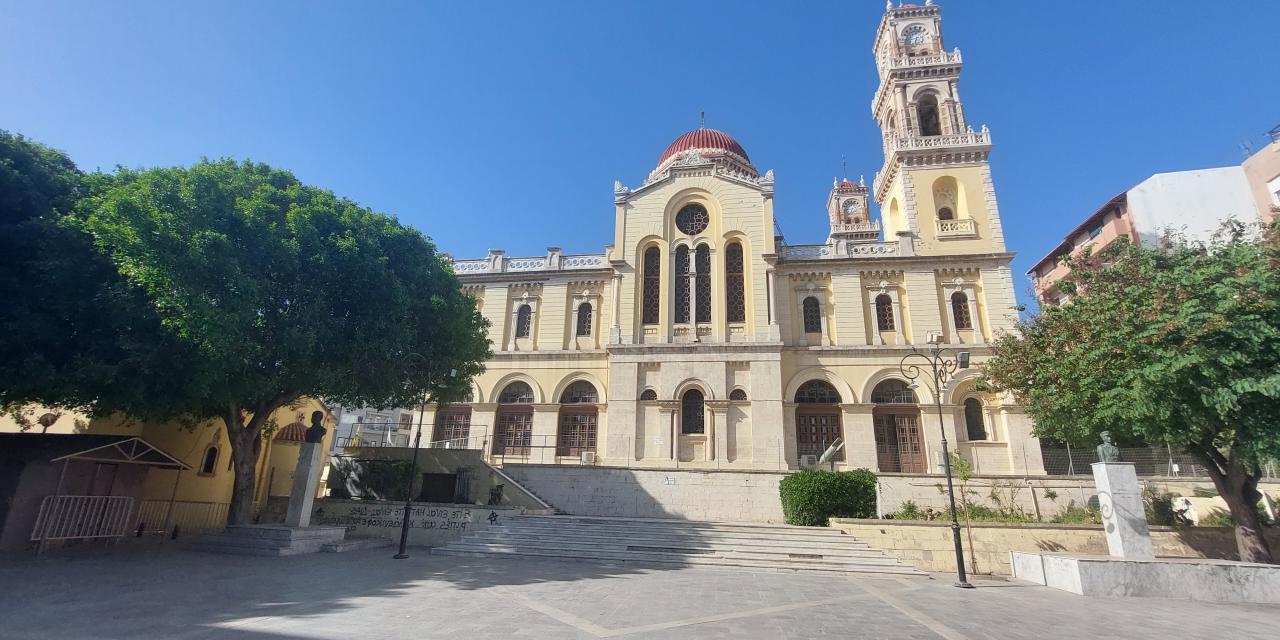Agios Minas: (408, 1, 1045, 458)
